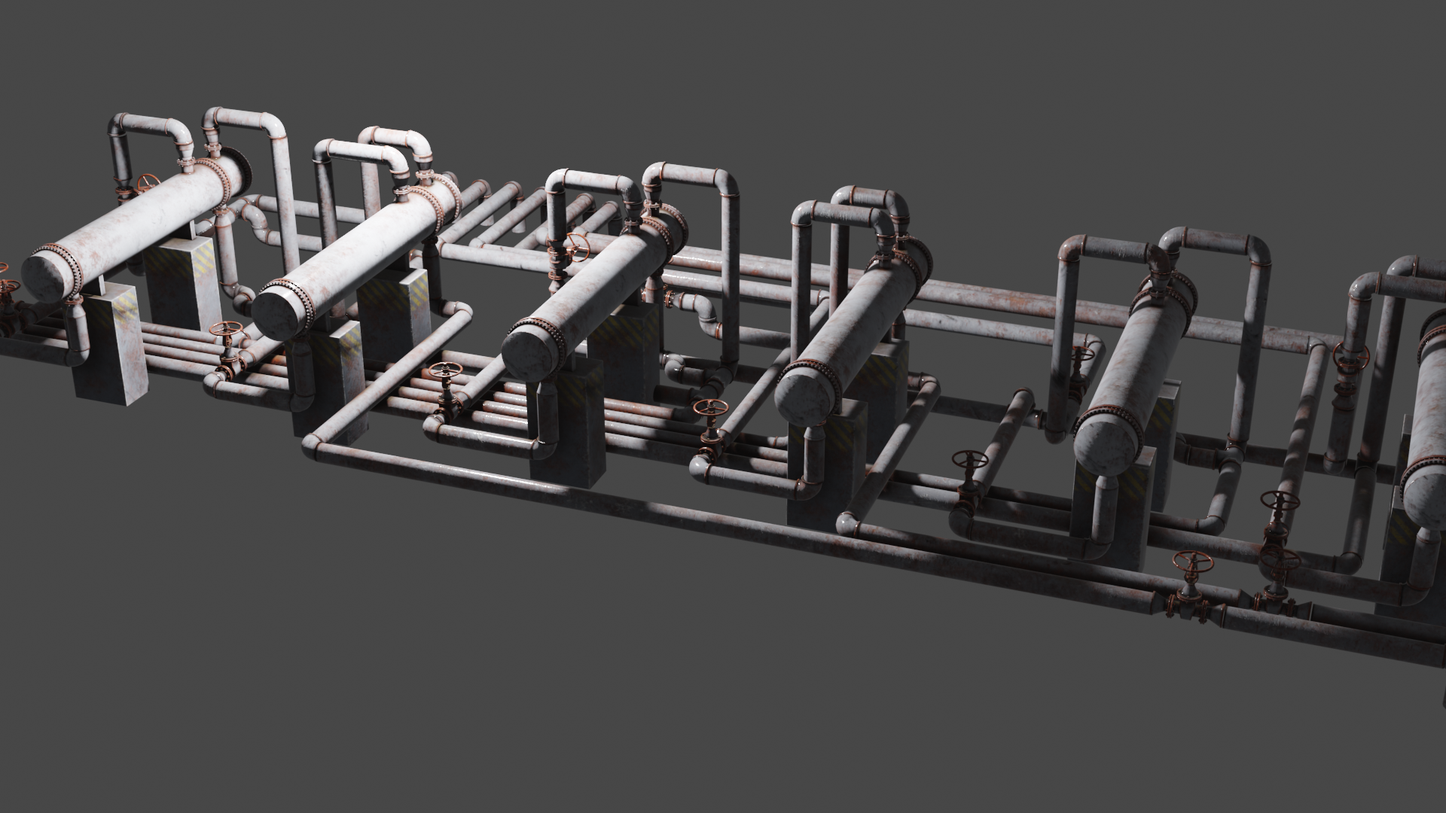HE_1: (1404, 309, 1443, 545)
HE_2: (1073, 266, 1202, 481)
HE_3: (766, 228, 935, 426)
HE_4: (499, 198, 692, 385)
HE_5: (253, 166, 464, 341)
HE_6: (20, 144, 252, 302)
